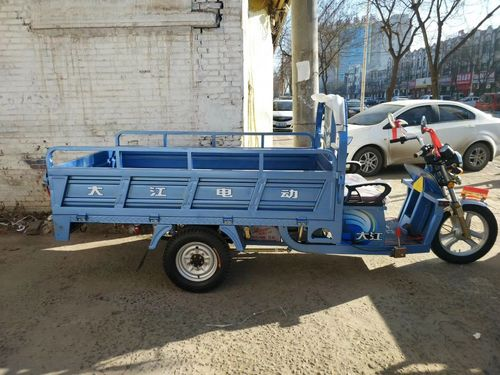empty: (43, 94, 499, 290)
